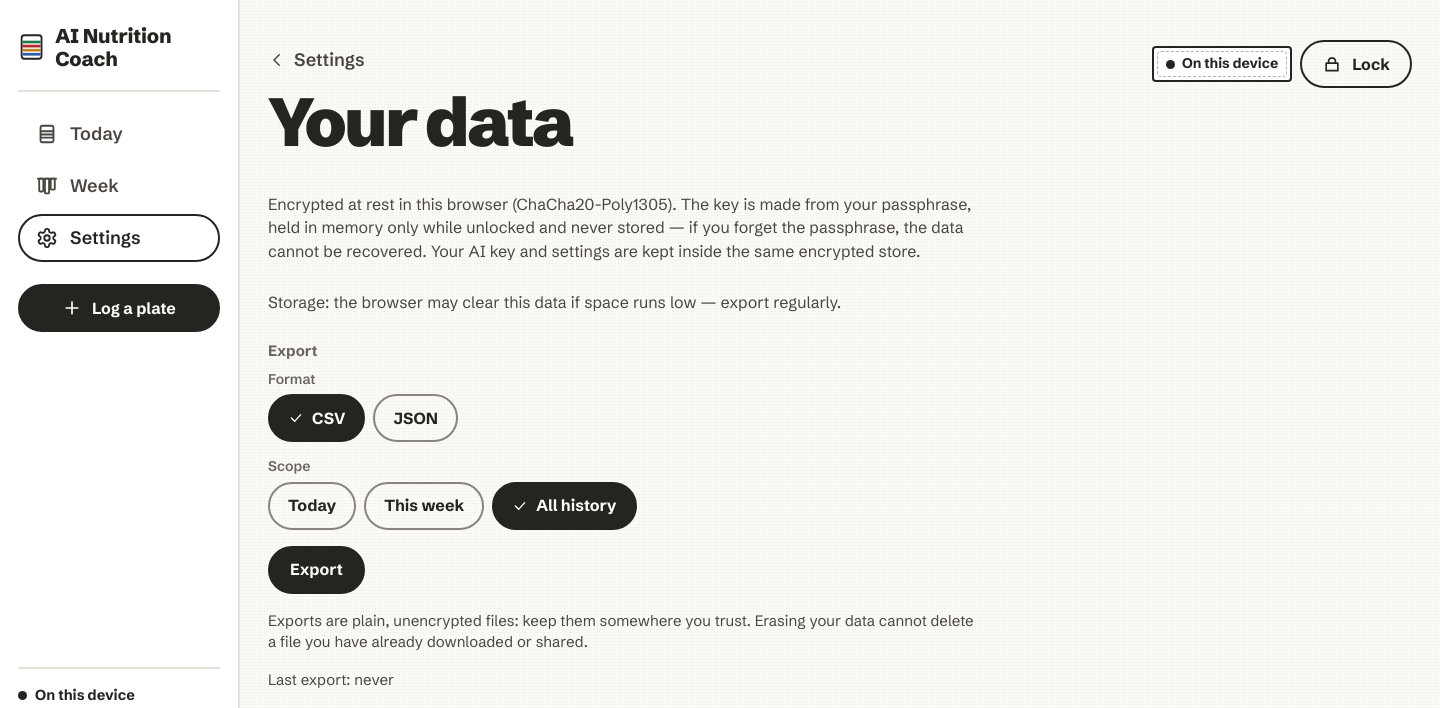
Test: YourDataScreen: export › a dismissed share sheet says nothing was exported and records no date
Expected: the heading "Your data" is shown, [268, 92, 572, 153]
Click the button "Export": (316, 570) [268, 546, 365, 594]
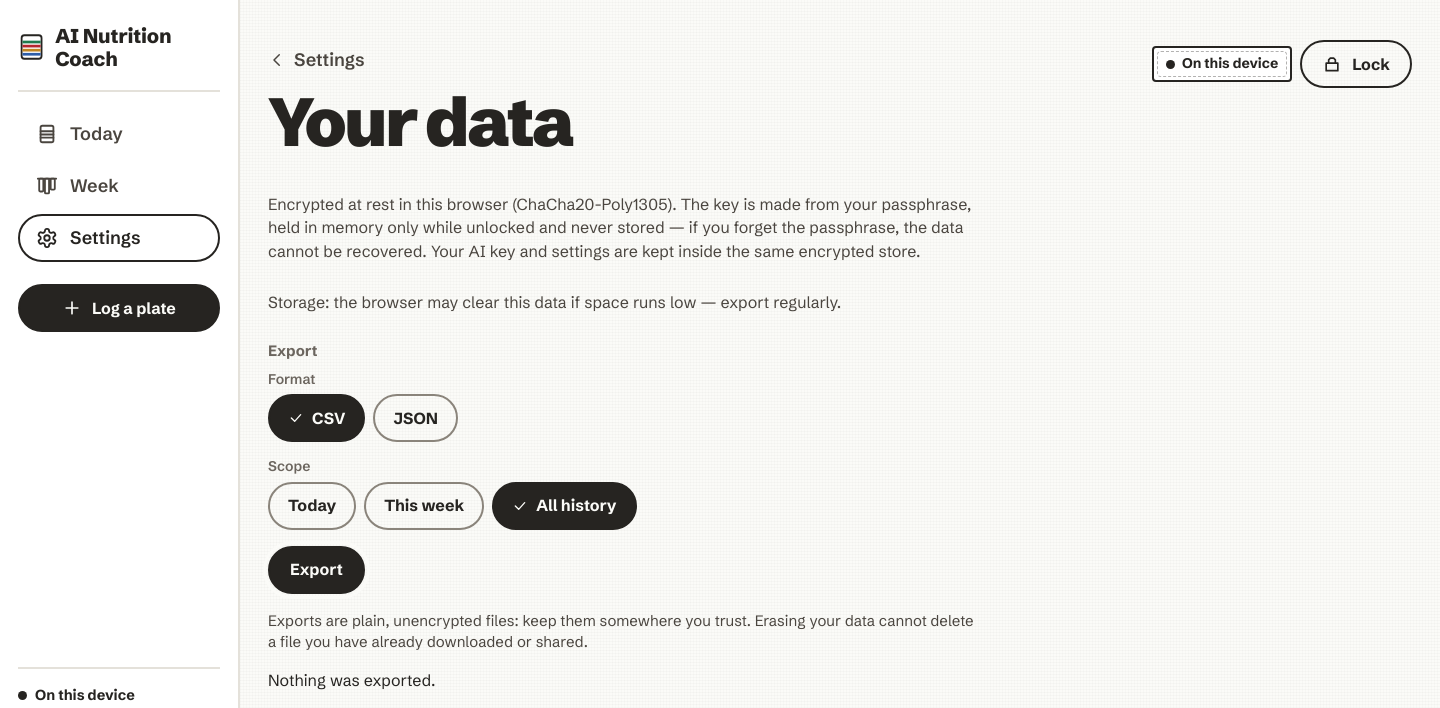
Expected: the text "Nothing was exported." is shown, [268, 670, 436, 690]
